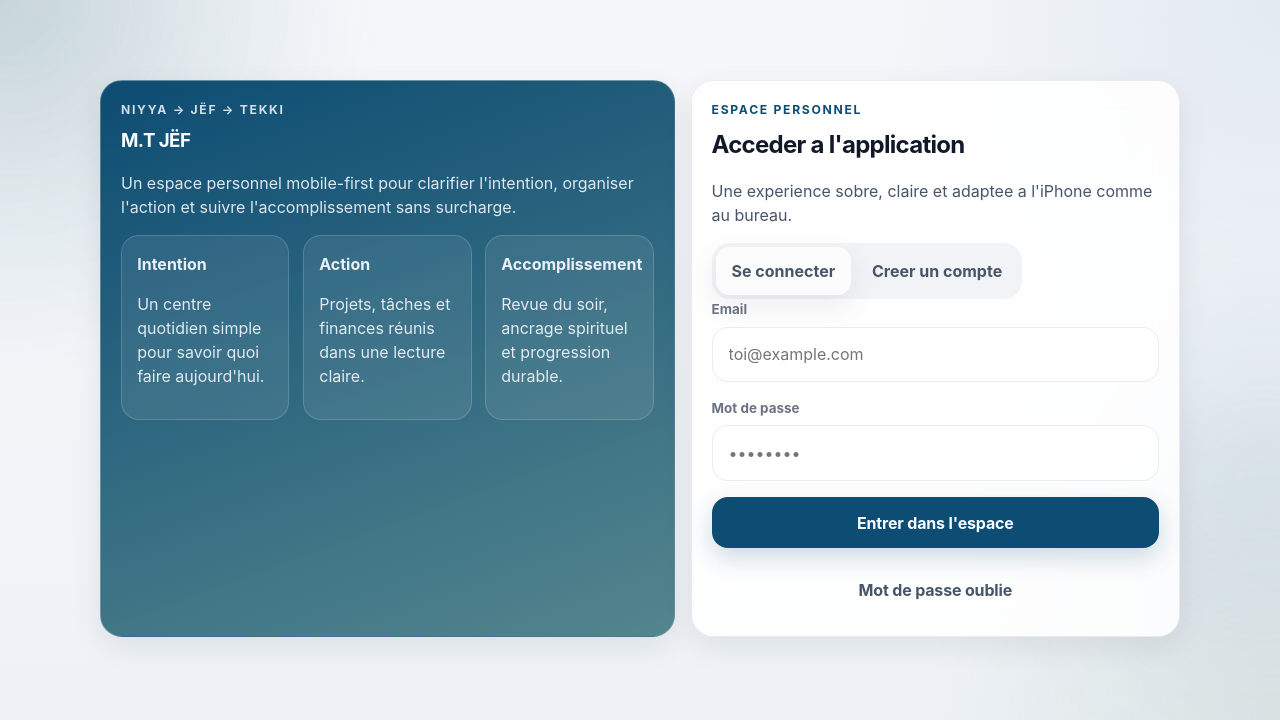
Test: AuthScreen › soumet le formulaire d'inscription et appelle signUp avec un e-mail normalise
Step 1. Click the tab "Creer un compte" → (937, 271), box x1=856 y1=247 x2=1018 y2=295
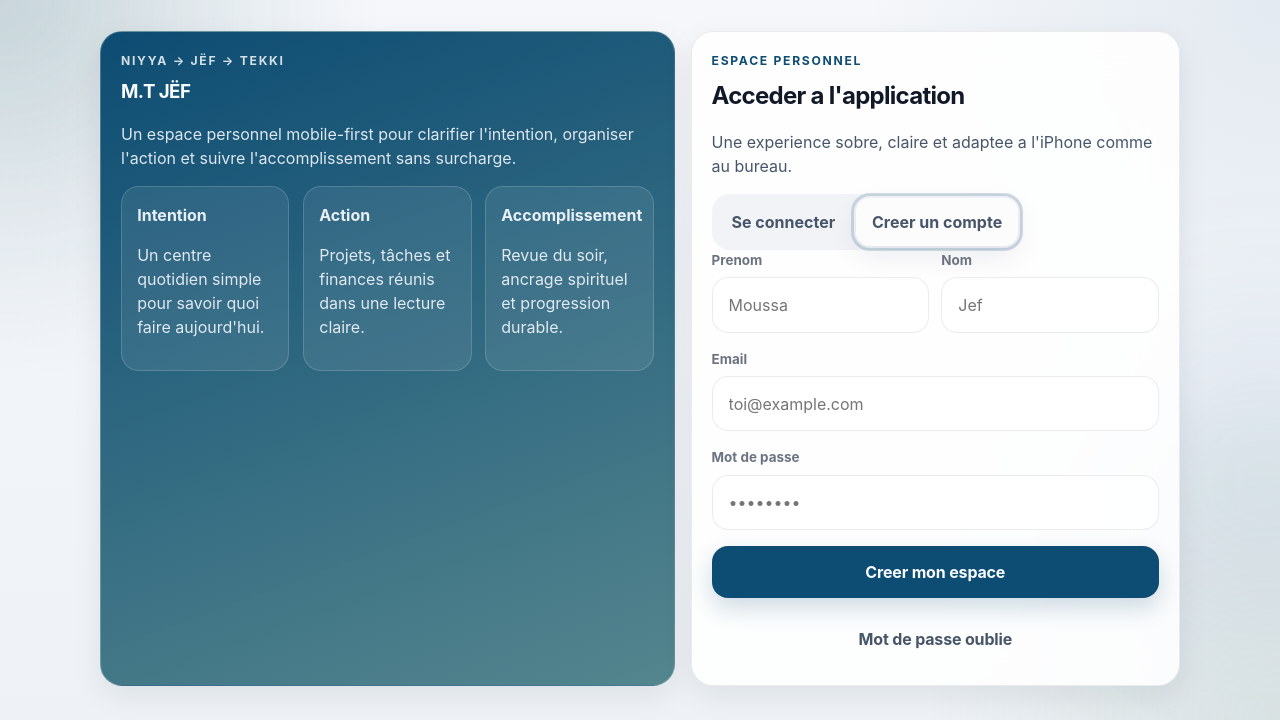
Step 2. Type "  Moussa  " into the field labelled "Prenom" → (820, 305), box x1=712 y1=277 x2=929 y2=333
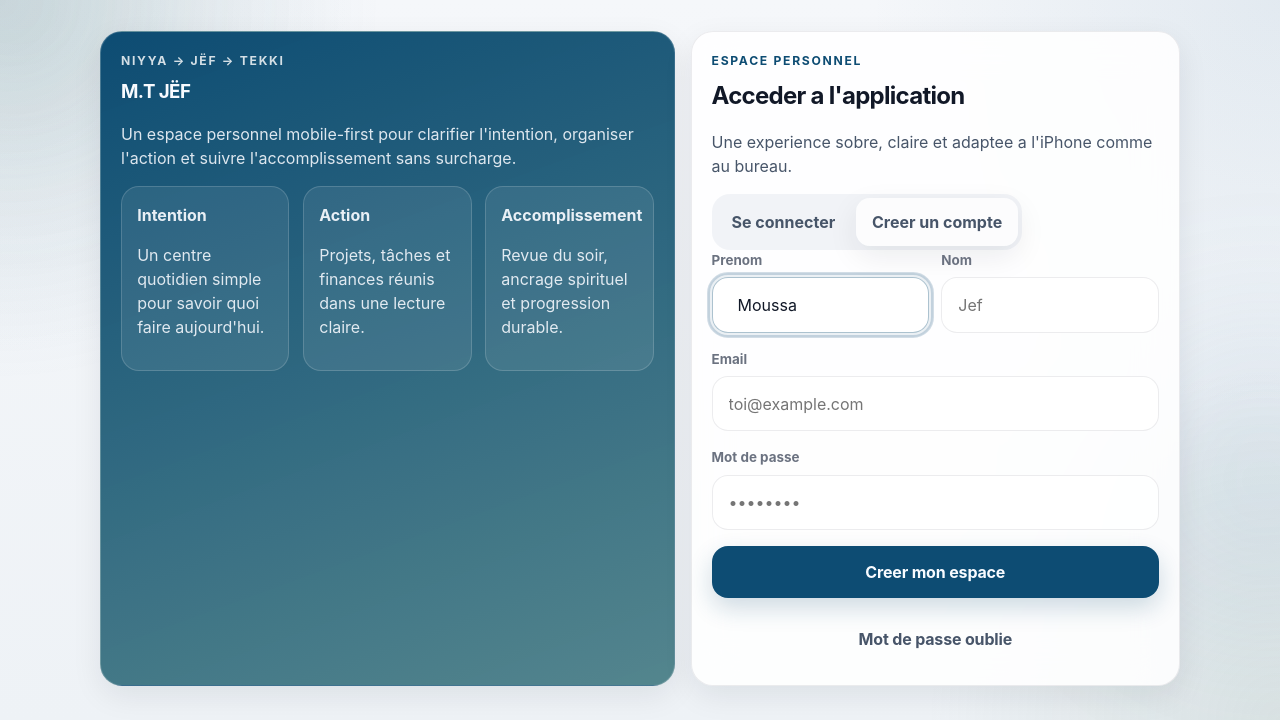
Step 3. Type "  Jef  " into the field labelled "Nom" → (1050, 305), box x1=941 y1=277 x2=1159 y2=333
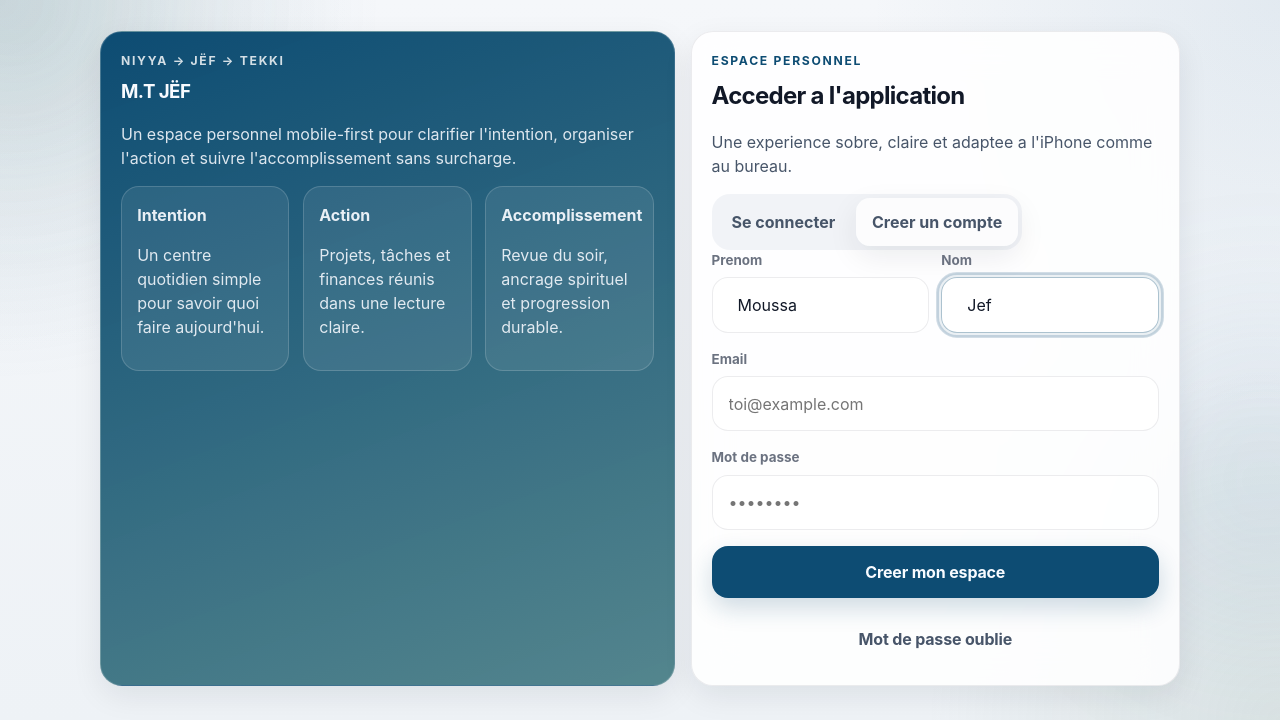
Step 4. Type "  TEST.USER@YOPMAIL.COM  " into the field labelled "Email" → (935, 404), box x1=712 y1=376 x2=1159 y2=431
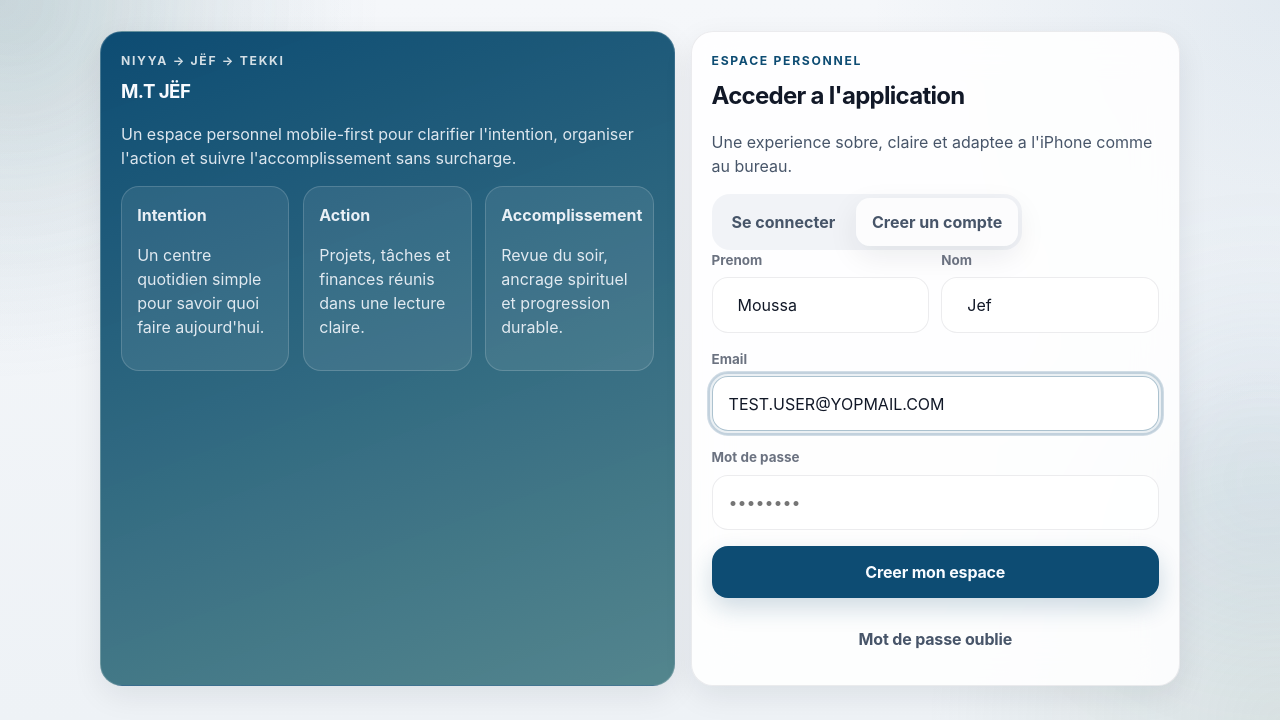
Step 5. Type "MotDePasse123!" into the password field labelled "Mot de passe" → (935, 502), box x1=712 y1=475 x2=1159 y2=530
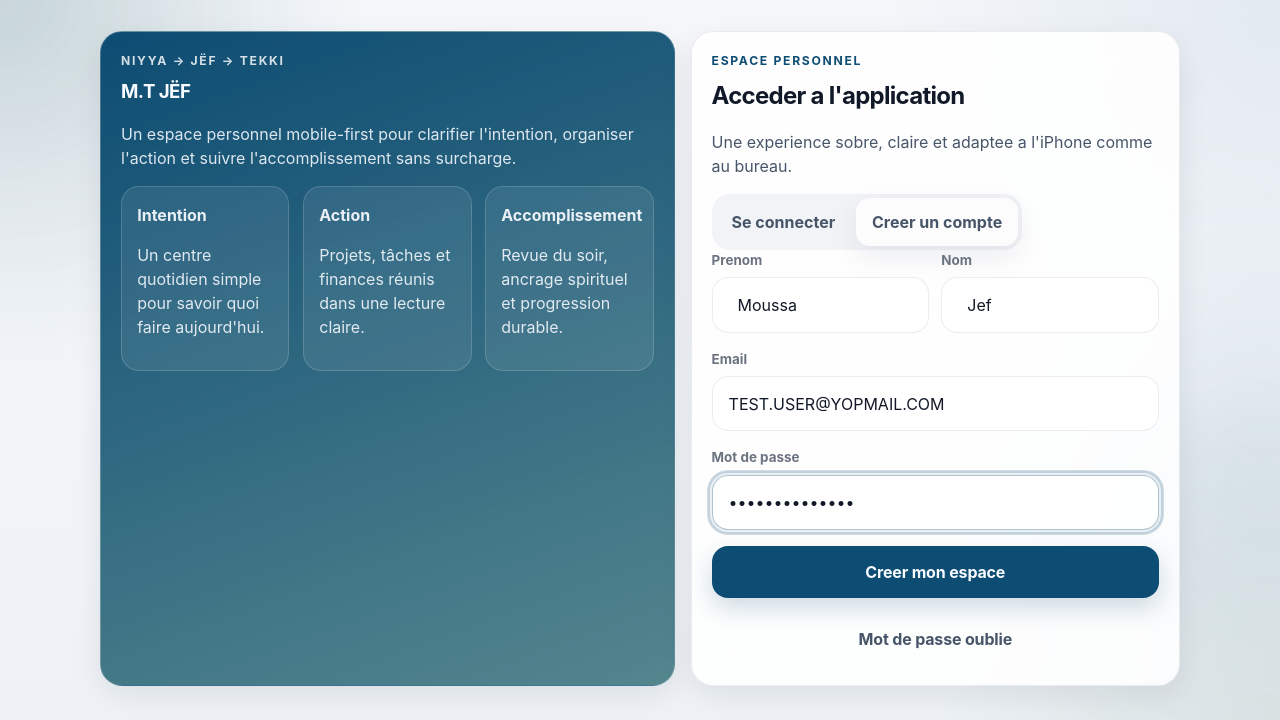
Expected: the form "Creer mon espace" is shown
Step 6. Submit the form "Creer mon espace", box x1=712 y1=250 x2=1159 y2=665
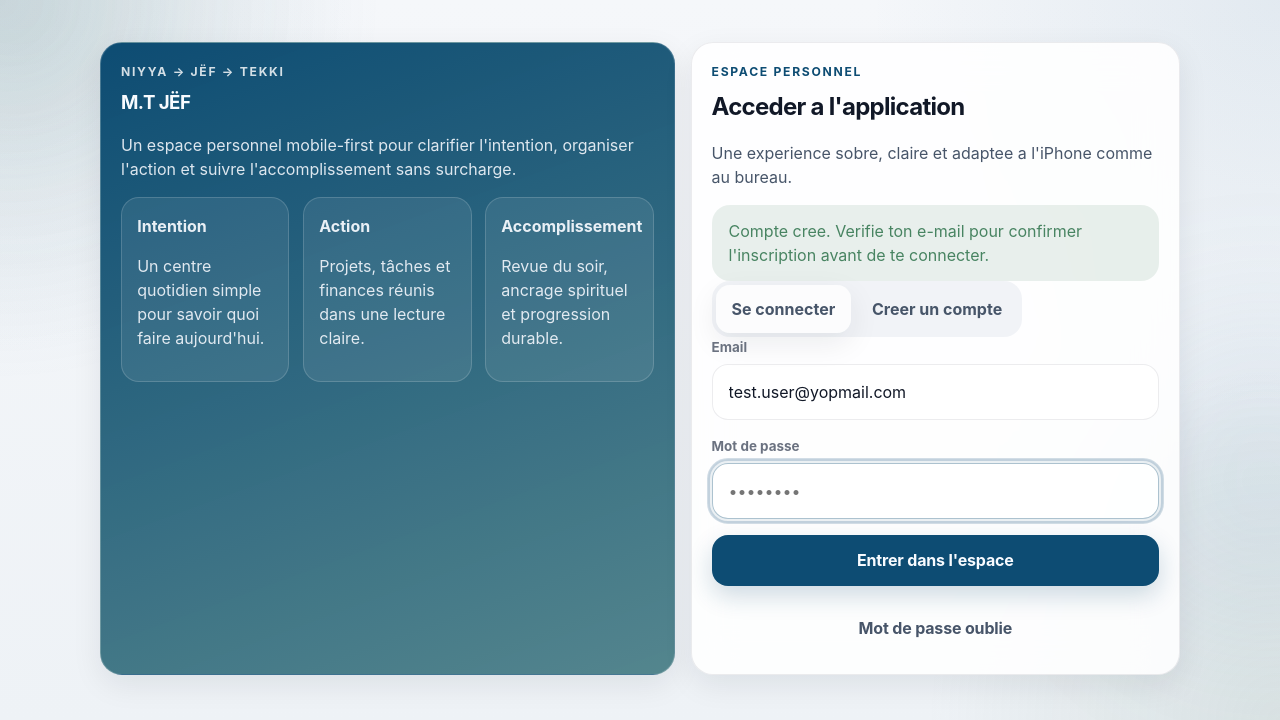
Expected: the text "Compte cree. Verifie ton e-mail pour confirmer l'inscription avant de te connecter." is shown, x1=728 y1=221 x2=1082 y2=265
